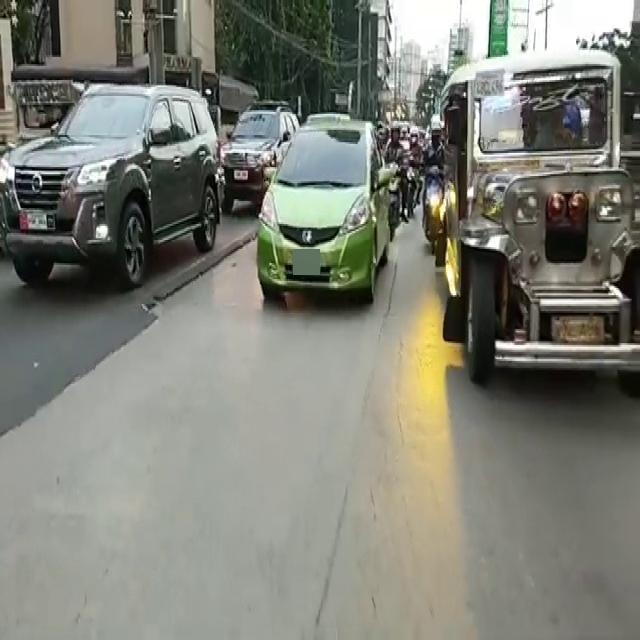car: (0, 82, 218, 274), (260, 127, 384, 309), (218, 97, 280, 200)
jeepney: (458, 76, 640, 400)
motorcycle: (384, 118, 416, 242), (421, 115, 447, 252)
